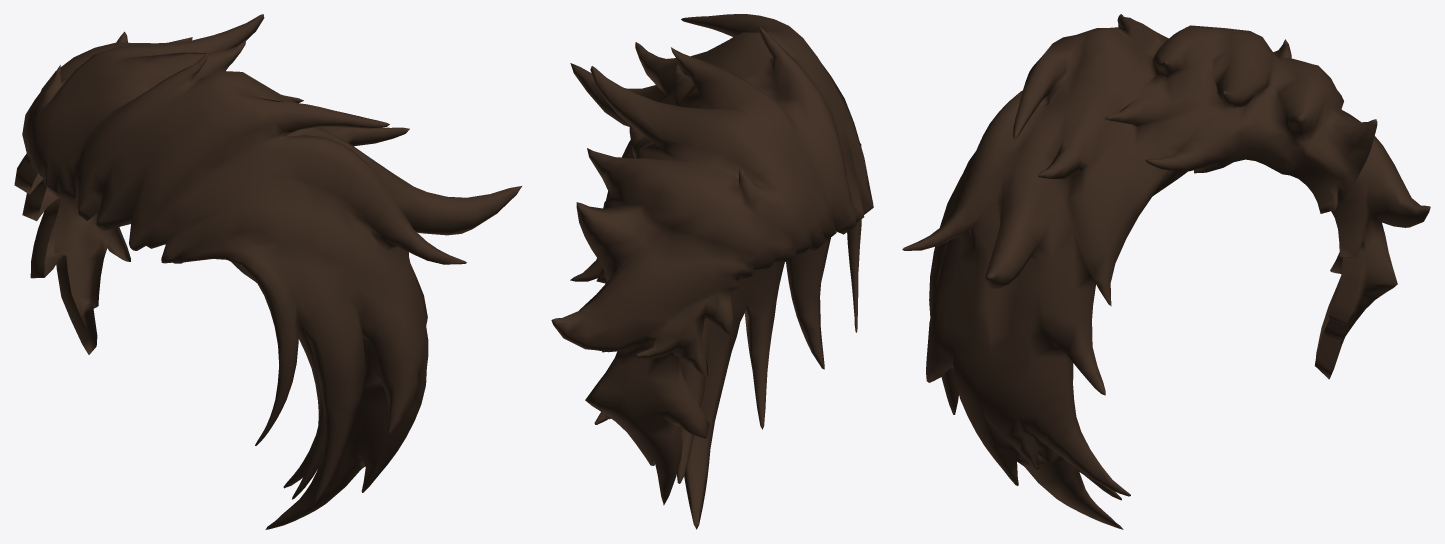
File: hair_w07.glb
The picture shows the model from 3 angles, left to right: view 1: azimuth 30°, elevation 25°; view 2: azimuth 150°, elevation 25°; view 3: azimuth 270°, elevation 25°; orthographic projection. The views are drawn at different scales.
Parts seen in each view (by area): view 1: hair_w07; view 2: hair_w07; view 3: hair_w07.
Boxes of the visible parts, x1,y1,x2,y2 form: hair_w07: [14, 14, 521, 529]; hair_w07: [551, 14, 873, 529]; hair_w07: [902, 14, 1430, 529].
Size of the model in its own units: 0.1883 by 0.246 by 0.2417.
